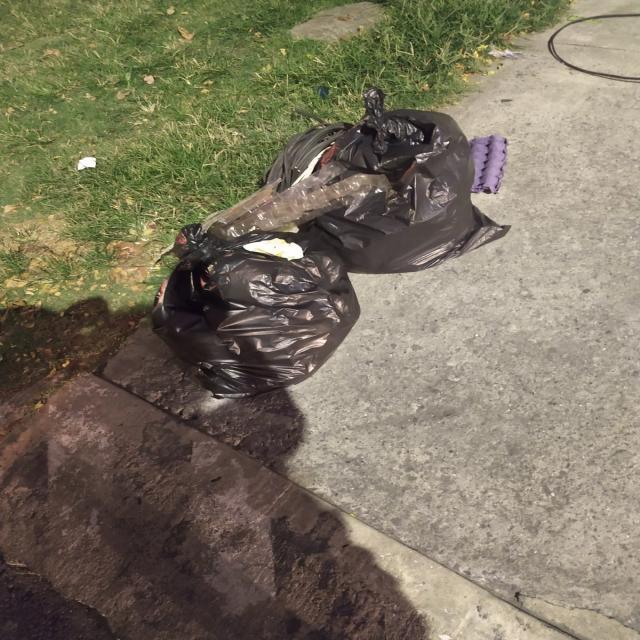high trash: (152, 89, 508, 397)
